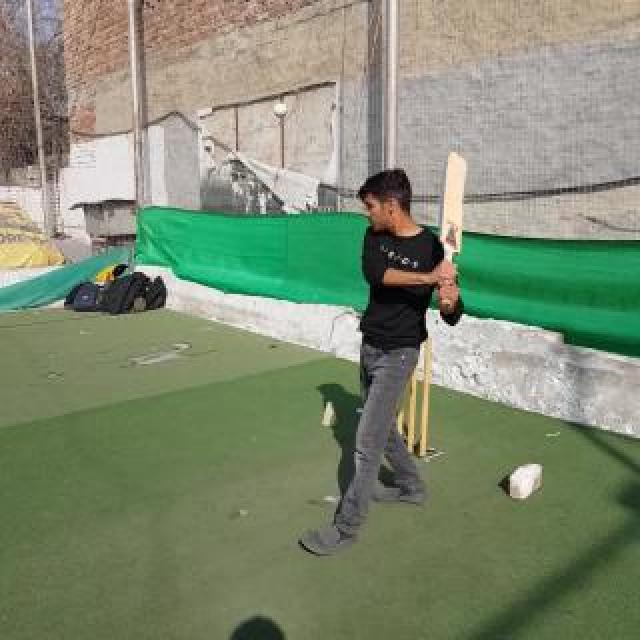ball: (274, 103, 288, 117)
bat: (439, 150, 469, 308)
